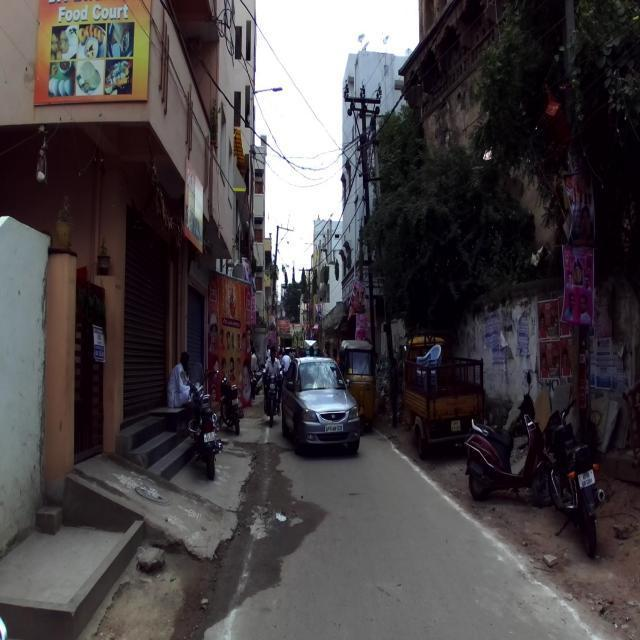Pothole: (255, 493, 332, 579), (575, 595, 640, 640)
